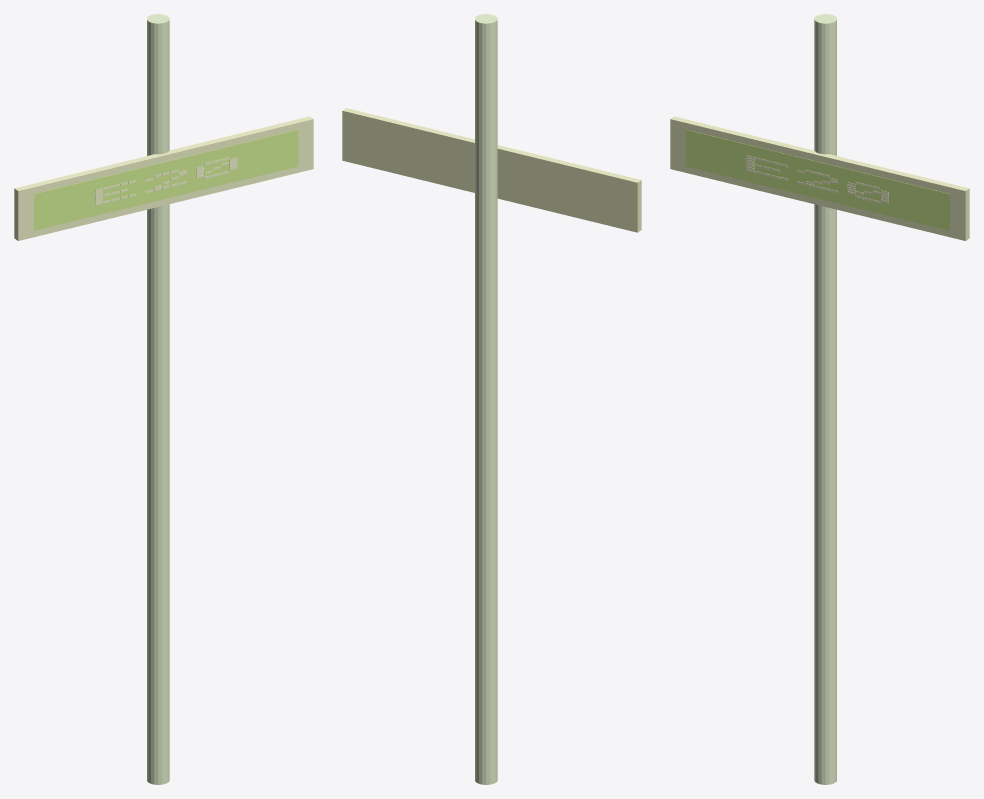
Rendered from sign_route_e20_shield.glb.
The picture shows the model from 3 angles, left to right: view 1: azimuth 30°, elevation 25°; view 2: azimuth 150°, elevation 25°; view 3: azimuth 330°, elevation 25°; orthographic projection.
Visible parts, largest first — view 1: pole, layer_1_00, plate_base_00; view 2: pole, plate_base_00; view 3: pole, layer_1_00, plate_base_00.
Part boxes in pixels (x1,y1,x2,y2): pole: (147,14,169,784); layer_1_00: (34,129,298,230); plate_base_00: (14,116,313,240); pole: (475,14,497,784); plate_base_00: (342,108,641,232); pole: (814,14,836,784); layer_1_00: (685,129,949,230); plate_base_00: (670,116,969,240).
Bounding box in the file's own units: 0.893 × 2.2 × 0.0725.
